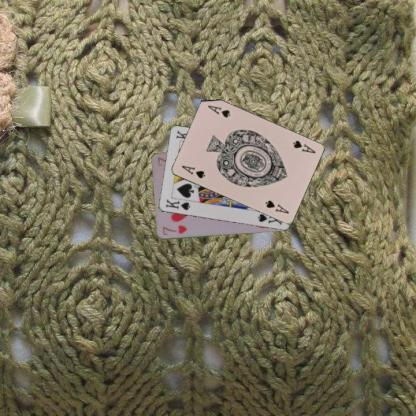7h: (160, 222, 188, 237)
As: (290, 137, 317, 155), (179, 163, 206, 180)
Ks: (163, 196, 191, 212)
